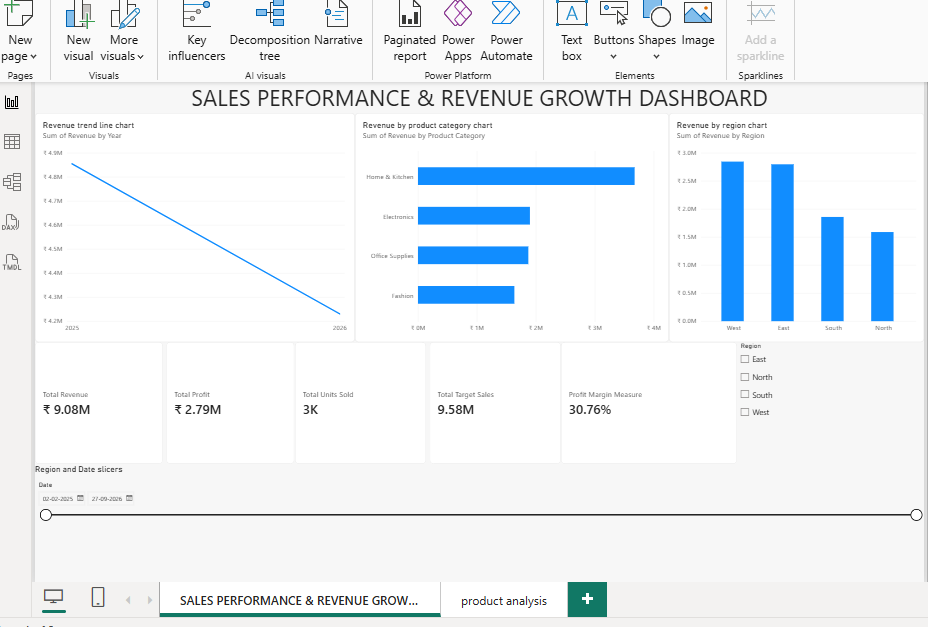

This screenshot's page, from the dashboard's own definition file:
{"tool":"powerbi","page":{"name":"SALES PERFORMANCE & REVENUE GROWTH DASHBOARD","canvas":[1920,1080],"ordinal":0},"visuals":[{"type":"cardVisual","fields":{"Data":["Sales.Total Revenue","Sales.Total Profit"]},"box":[0,561.6,561.6,263.5],"z":0},{"type":"cardVisual","fields":{"Data":["Sales.Total Units Sold","Sales.Total Target Sales"]},"box":[561.6,561.6,574.6,263.5],"z":1000},{"type":"cardVisual","fields":{"Data":["Sales.Profit Margin Measure"]},"box":[1136.2,561.6,380.2,263.5],"z":2000},{"type":"lineChart","title":"Revenue trend line chart","fields":{"Category":["Sales.Date.Variation.Date Hierarchy.Year","Sales.Date.Variation.Date Hierarchy.Quarter","Sales.Date.Variation.Date Hierarchy.Month","Sales.Date.Variation.Date Hierarchy.Day","Sales.Date.Variation.Date Hierarchy.Quarter","Sales.Date.Variation.Date Hierarchy.Month","Sales.Date.Variation.Date Hierarchy.Day"],"Y":["Sum(Sales.Revenue)"]},"box":[0,67,691.2,494.6],"z":3000},{"type":"clusteredBarChart","title":"Revenue by product category chart","fields":{"Category":["Sales.Product Category"],"Y":["Sum(Sales.Revenue)"]},"box":[691.2,67,678.2,494.6],"z":4000},{"type":"clusteredColumnChart","title":"Revenue by region chart","fields":{"Category":["Sales.Region"],"Y":["Sum(Sales.Revenue)"]},"box":[1369.4,67,550.8,494.6],"z":5000},{"type":"slicer","fields":{"Values":["Sales.Region"]},"box":[1516.3,561.6,403.9,263.5],"z":6000},{"type":"slicer","title":"Region and Date slicers","fields":{"Values":["Sales.Date"]},"box":[0,825.1,1920.2,254.9],"z":7000},{"type":"textbox","box":[0,0,1920.2,67],"z":8000}]}

Visuals, with their boxes on the page's 1920x1080 design canvas (x1, y1, x2, y2). These are canvas units, not pixel positions in the 928x627 screenshot, which may show the page scaled, cropped or inside an application window:
cardVisual - Sales.Total Revenue x Sales.Total Profit: region(0, 562, 562, 825)
cardVisual - Sales.Total Units Sold x Sales.Total Target Sales: region(562, 562, 1136, 825)
cardVisual - Sales.Profit Margin Measure: region(1136, 562, 1516, 825)
"Revenue trend line chart" lineChart: region(0, 67, 691, 562)
"Revenue by product category chart" clusteredBarChart: region(691, 67, 1369, 562)
"Revenue by region chart" clusteredColumnChart: region(1369, 67, 1920, 562)
slicer - Sales.Region: region(1516, 562, 1920, 825)
"Region and Date slicers" slicer: region(0, 825, 1920, 1080)
textbox: region(0, 0, 1920, 67)
